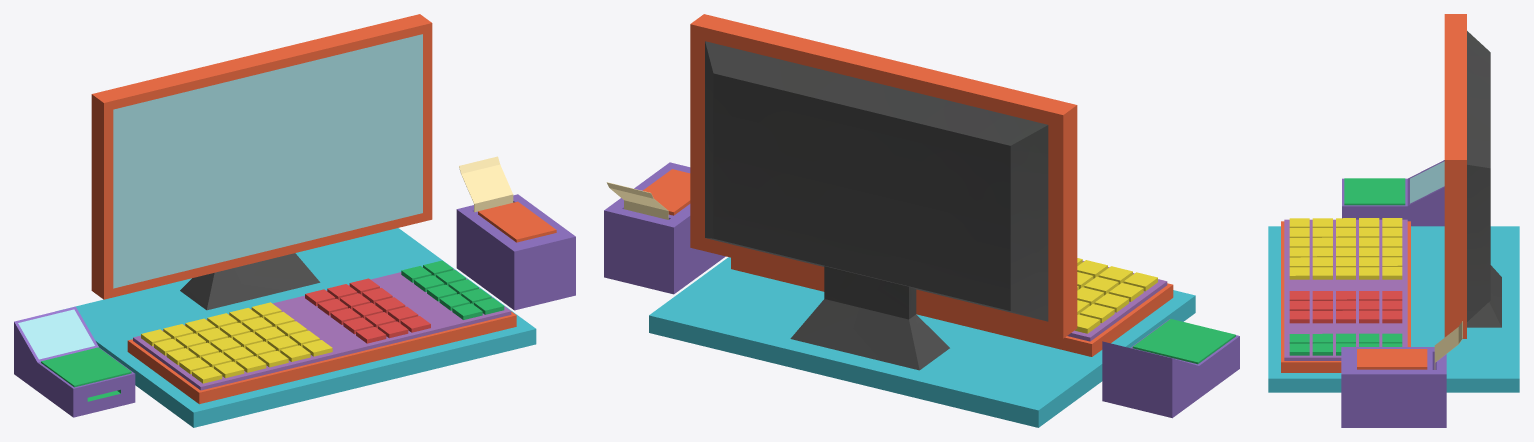
File: Case lv3.fbx
The picture shows the model from 3 angles, left to right: view 1: azimuth 30°, elevation 25°; view 2: azimuth 150°, elevation 25°; view 3: azimuth 270°, elevation 25°; orthographic projection. The views are drawn at different scales.
Visible parts, largest first — view 1: Case_lv3; view 2: Case_lv3; view 3: Case_lv3.
Part boxes in pixels (bbox=[...]): Case_lv3: bbox=[14, 14, 575, 427]; Case_lv3: bbox=[604, 14, 1239, 427]; Case_lv3: bbox=[1268, 14, 1519, 427].
Bounding box in the file's own units: 135 × 64.85 × 64.43.
